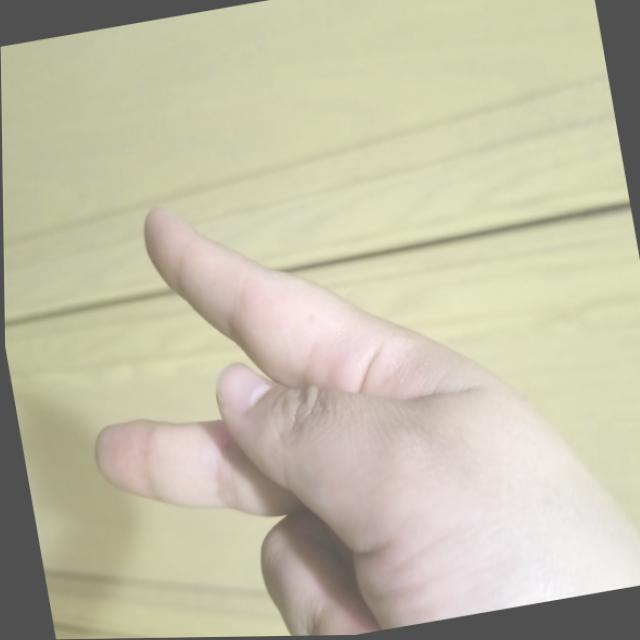P: (44, 125, 639, 639)
